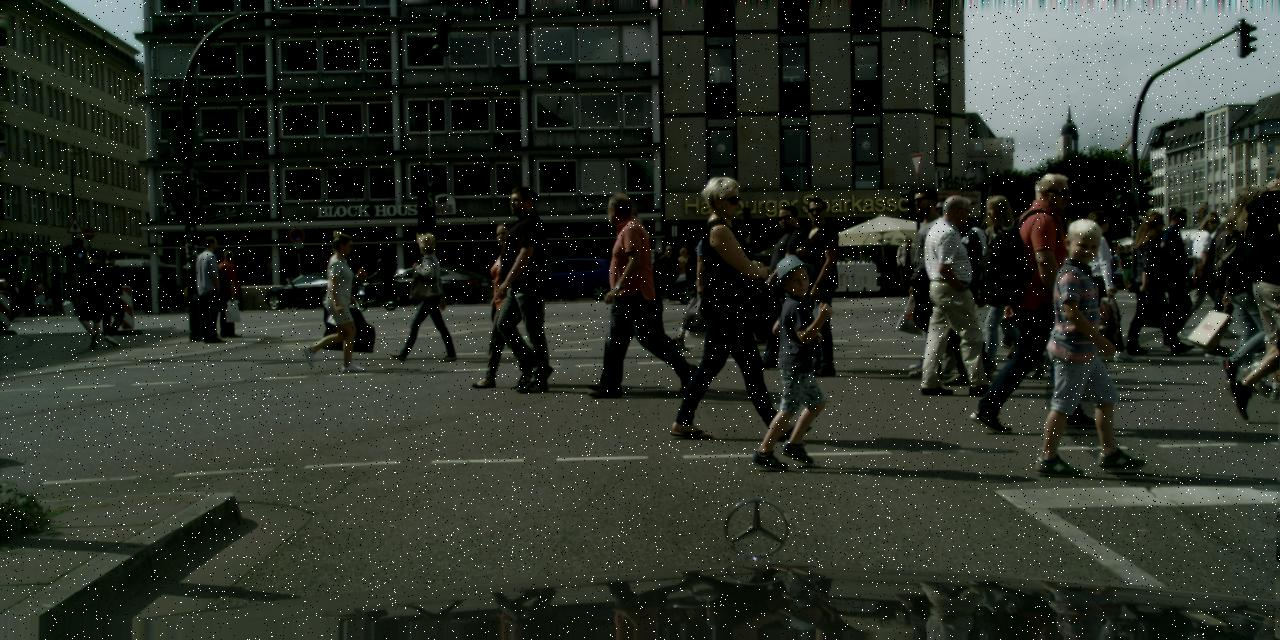ped: (681, 176, 786, 436), (995, 174, 1099, 428), (1038, 219, 1141, 471), (749, 255, 835, 464), (484, 184, 568, 389), (918, 193, 1001, 396), (594, 192, 676, 394), (1202, 185, 1279, 388), (892, 186, 971, 379), (969, 194, 1045, 380), (781, 196, 854, 375), (905, 196, 977, 373), (1226, 172, 1278, 412), (928, 206, 999, 380), (608, 220, 676, 388), (757, 205, 824, 368), (476, 222, 542, 385), (1016, 212, 1078, 363), (1068, 210, 1130, 361), (1126, 211, 1186, 355), (1148, 206, 1206, 349), (1197, 215, 1254, 356), (308, 233, 363, 369), (1197, 203, 1252, 338), (680, 217, 734, 351), (397, 232, 449, 361), (1182, 209, 1234, 337), (721, 228, 766, 341), (188, 235, 232, 343), (74, 248, 114, 348), (92, 252, 130, 346), (210, 250, 245, 336), (896, 236, 920, 296), (658, 244, 680, 300), (674, 247, 694, 297), (1118, 245, 1136, 288), (368, 258, 386, 300), (353, 262, 369, 302), (1103, 246, 1119, 285), (32, 277, 46, 314), (22, 280, 36, 316), (50, 280, 63, 314), (62, 279, 75, 312), (1114, 246, 1127, 278), (40, 282, 52, 314), (155, 278, 166, 306), (161, 280, 171, 304), (245, 273, 254, 298), (240, 270, 249, 294), (285, 272, 294, 295), (258, 276, 266, 296), (167, 281, 175, 300), (281, 275, 288, 295)
